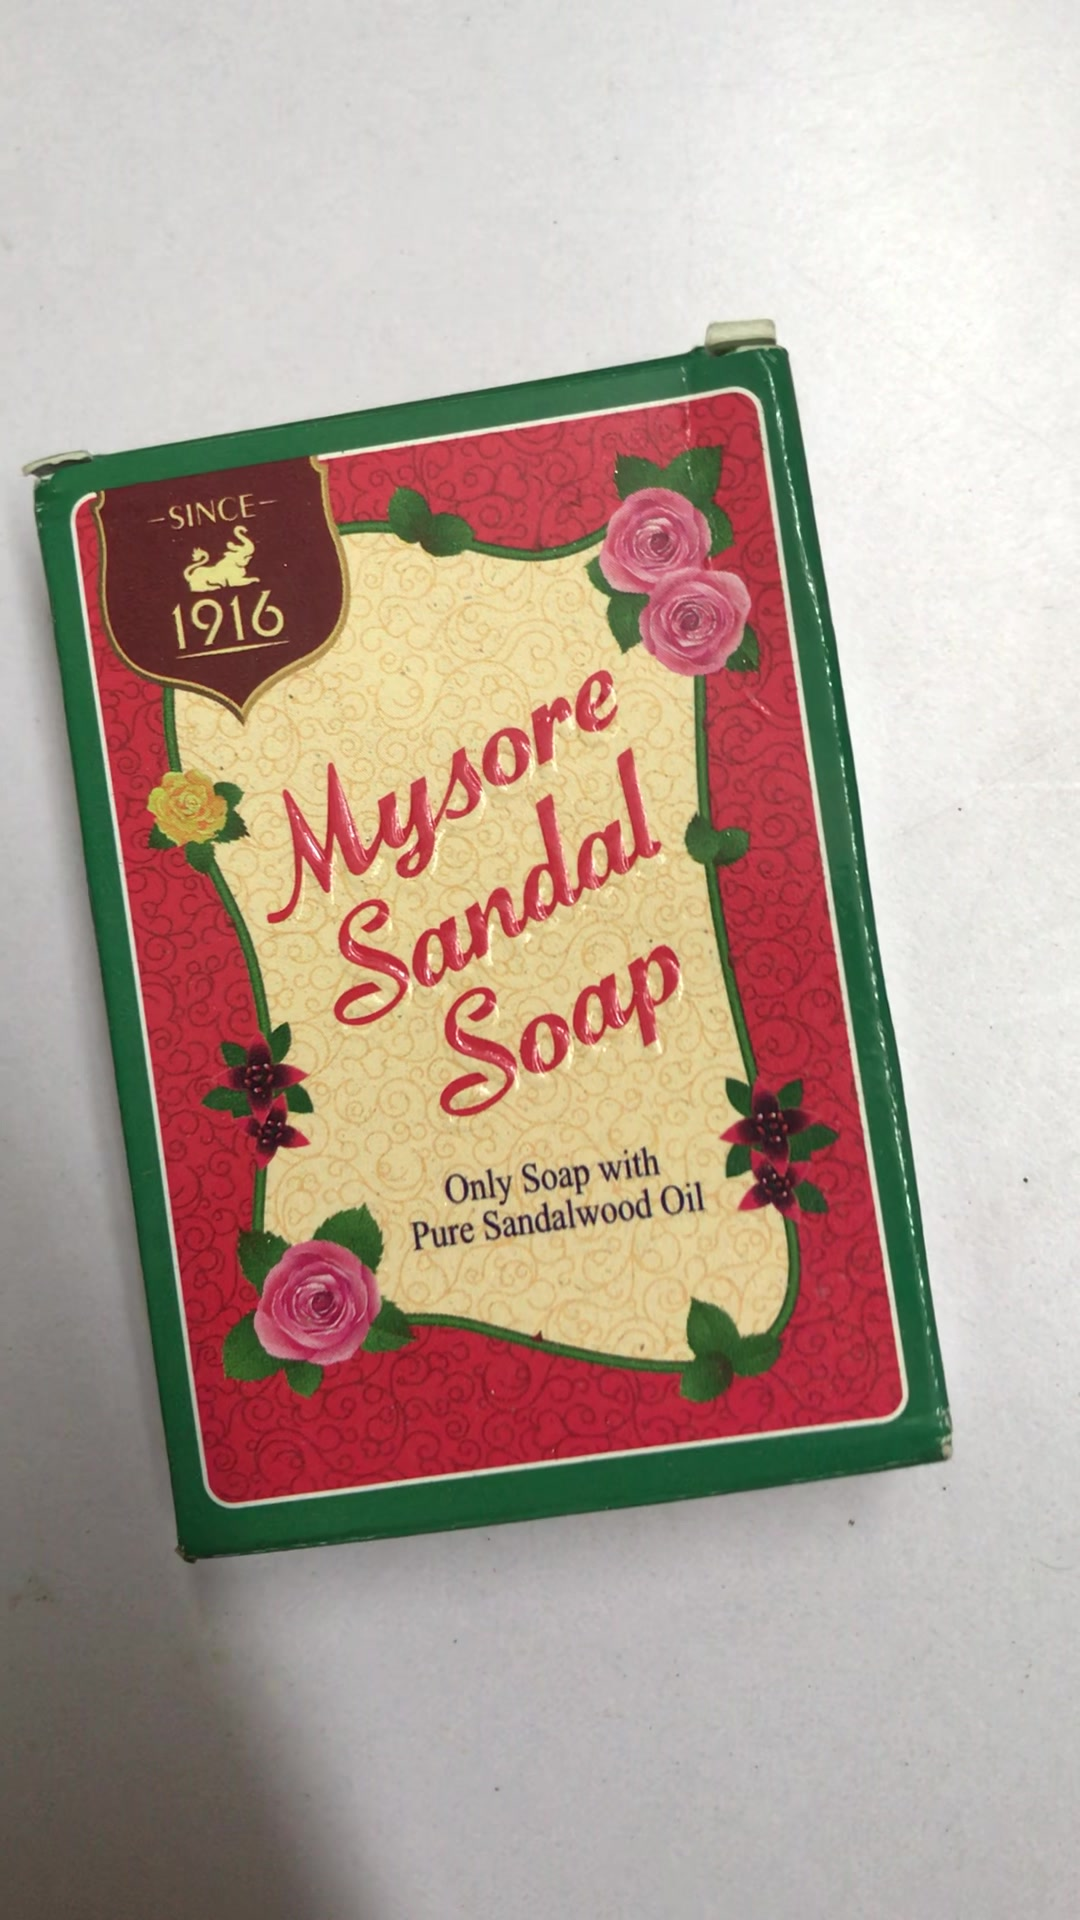mysore sandal soap: (44, 352, 953, 1557)
